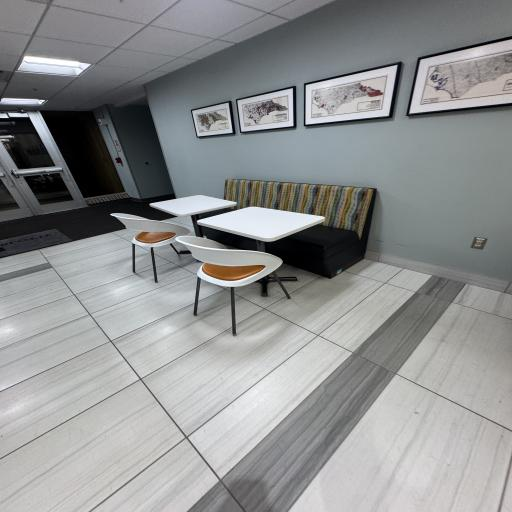bench: (224, 176, 370, 276)
chair: (185, 243, 276, 328), (104, 218, 188, 286)
poster: (306, 58, 402, 127), (411, 53, 512, 110), (238, 87, 296, 133), (193, 98, 231, 137)
table: (207, 210, 310, 234), (162, 191, 225, 215)
